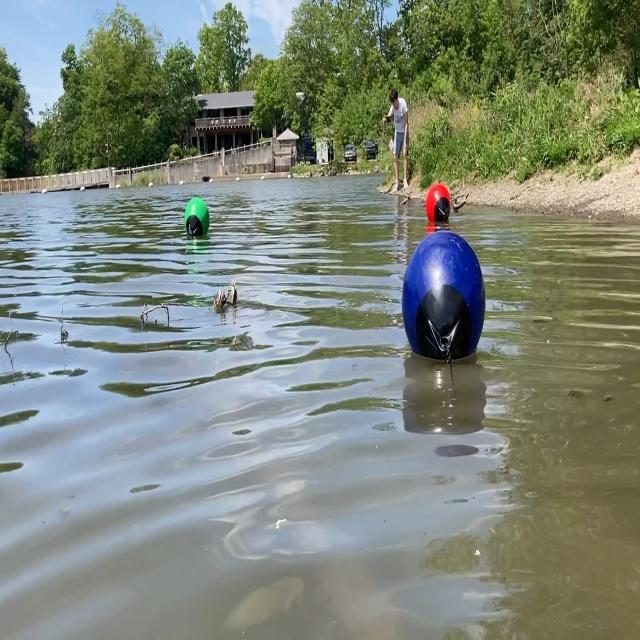buoy: (402, 226, 486, 360), (184, 192, 212, 240), (425, 179, 451, 228)
